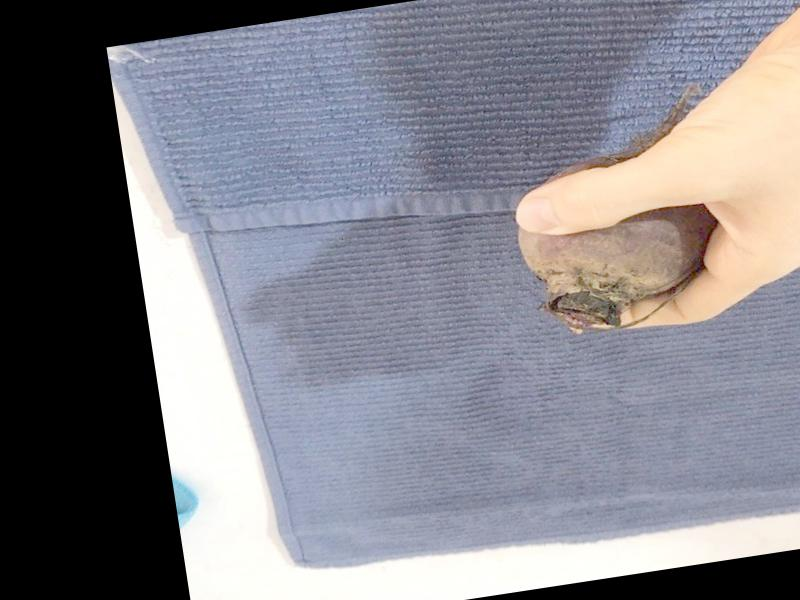Beet: (497, 82, 725, 340)
